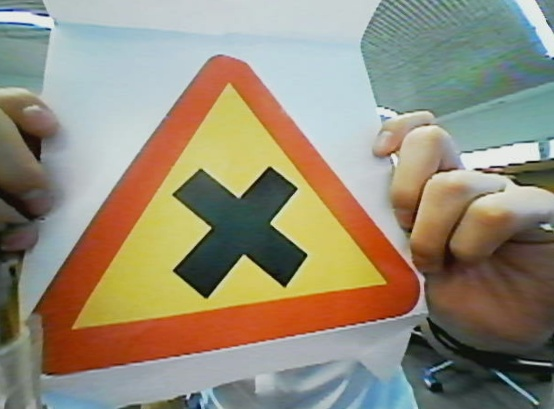junction: (26, 44, 429, 386)
